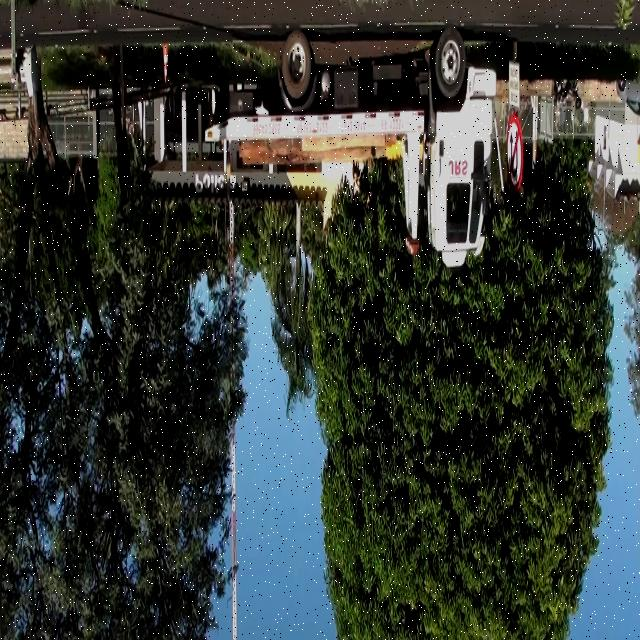-axle: (282, 32, 312, 98), (436, 30, 464, 100)
